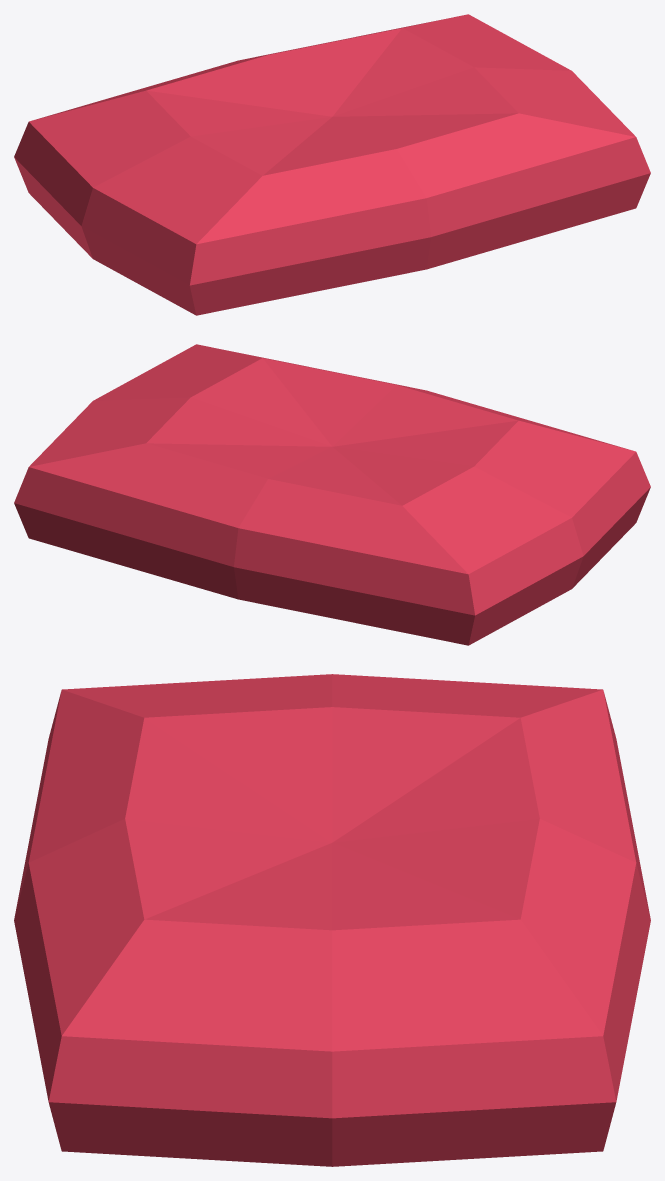
File: Itr_Bed_Pillow_06.FBX
The picture shows the model from 3 angles, top to bottom: view 1: azimuth 30°, elevation 25°; view 2: azimuth 150°, elevation 25°; view 3: azimuth 270°, elevation 25°; orthographic projection. The views are drawn at different scales.
Parts seen in each view (by area): view 1: Itr_Bed_Pillow_06; view 2: Itr_Bed_Pillow_06; view 3: Itr_Bed_Pillow_06.
Part boxes in pixels (left/top/right/bottom): Itr_Bed_Pillow_06: left=14, top=14, right=650, bottom=315; Itr_Bed_Pillow_06: left=14, top=344, right=650, bottom=645; Itr_Bed_Pillow_06: left=14, top=674, right=650, bottom=1166.
Size of the model in its own units: 21.39 by 4.02 by 14.55.
